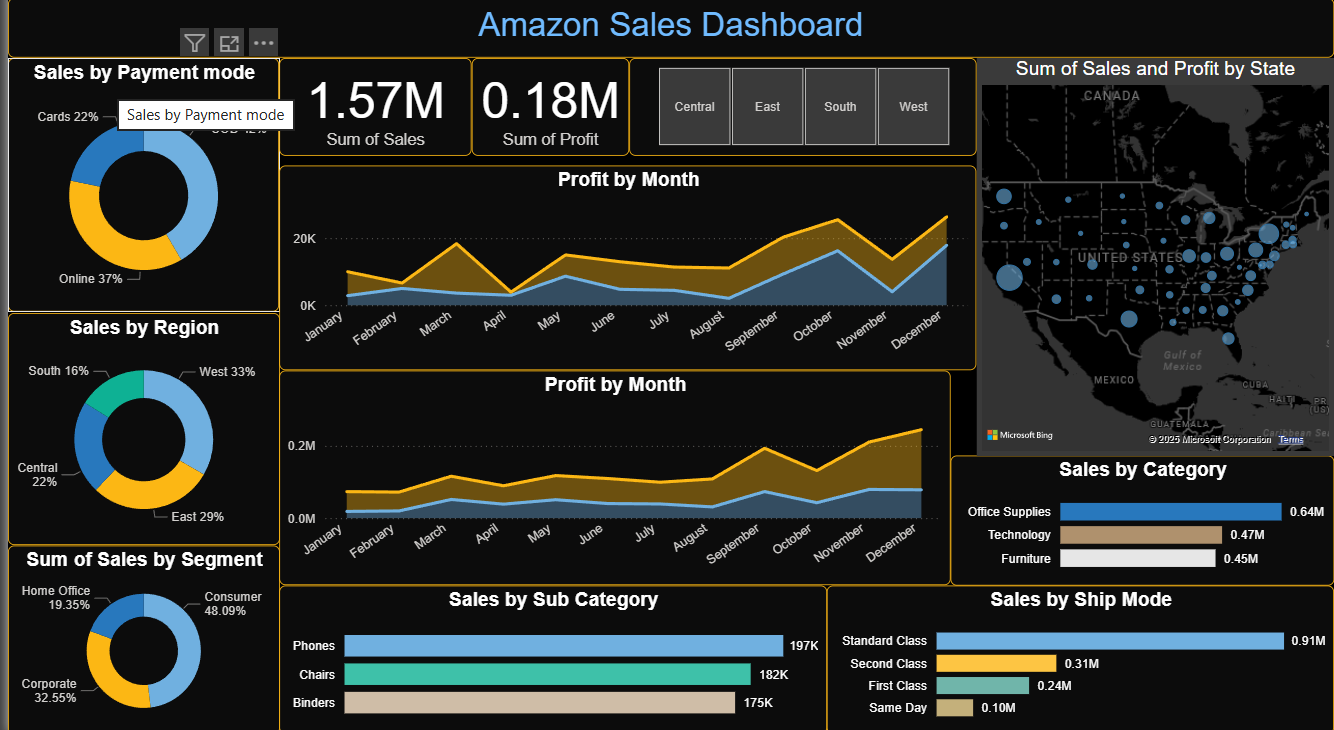

What the dashboard file says about the page in this screenshot:
{"tool":"powerbi","page":{"name":"Page 1","canvas":[1280,720],"ordinal":0},"visuals":[{"type":"donutChart","title":"Sales by Payment mode","fields":{"Category":["SuperStore_Sales_Dataset.Payment Mode"],"Y":["CountNonNull(SuperStore_Sales_Dataset.Order ID)"]},"box":[0,67.6,261.8,244.9],"z":0},{"type":"donutChart","title":"Sales by Region","fields":{"Category":["SuperStore_Sales_Dataset.Region"],"Y":["Sum(SuperStore_Sales_Dataset.Sales)"]},"box":[0,314.2,262.1,223.7],"z":1000},{"type":"donutChart","fields":{"Y":["Sum(SuperStore_Sales_Dataset.Sales)"],"Category":["SuperStore_Sales_Dataset.Segment"]},"box":[0,537.9,262.1,182.5],"z":2000},{"type":"clusteredBarChart","title":"Sales by Ship Mode","fields":{"Category":["SuperStore_Sales_Dataset.Ship Mode"],"Y":["Sum(SuperStore_Sales_Dataset.Sales)"]},"box":[790.2,576.7,489.8,143.6],"z":3000},{"type":"clusteredBarChart","title":"Sales by Category","fields":{"Category":["SuperStore_Sales_Dataset.Category","SuperStore_Sales_Dataset.Segment"],"Y":["Sum(SuperStore_Sales_Dataset.Sales)"]},"box":[909.7,451.2,370.4,125.5],"z":4000},{"type":"textbox","box":[0,9.7,1280,57.9],"z":5000},{"type":"stackedAreaChart","title":"Profit by Month","fields":{"Category":["SuperStore_Sales_Dataset.Order Date.Variation.Date Hierarchy.Month"],"Series":["SuperStore_Sales_Dataset.Order Date.Variation.Date Hierarchy.Year"],"Y":["Sum(SuperStore_Sales_Dataset.Sales)"]},"box":[261.8,369.2,647.9,207.5],"z":6000},{"type":"clusteredBarChart","title":"Sales by Sub Category","fields":{"Y":["Sum(SuperStore_Sales_Dataset.Sales)"],"Category":["SuperStore_Sales_Dataset.Sub-Category"]},"box":[261.8,576.7,528.4,143.6],"z":7000},{"type":"map","title":"Sum of Sales and Profit by State","fields":{"Category":["SuperStore_Sales_Dataset.State"],"Size":["Sum(SuperStore_Sales_Dataset.Sales)"]},"box":[935,67.6,345,383.6],"z":8000},{"type":"card","fields":{"Values":["Sum(SuperStore_Sales_Dataset.Sales)"]},"box":[261.8,67.6,185.8,94.1],"z":9000},{"type":"card","fields":{"Values":["Sum(SuperStore_Sales_Dataset.Profit)"]},"box":[447.6,67.6,152,94.1],"z":10000},{"type":"slicer","fields":{"Values":["SuperStore_Sales_Dataset.Region"]},"box":[599.6,67.6,335.4,94.1],"z":11000},{"type":"stackedAreaChart","title":"Profit by Month","fields":{"Category":["SuperStore_Sales_Dataset.Order Date.Variation.Date Hierarchy.Month"],"Y":["Sum(SuperStore_Sales_Dataset.Profit)"],"Series":["SuperStore_Sales_Dataset.Order Date.Variation.Date Hierarchy.Year"]},"box":[261.8,171.3,673.2,197.9],"z":12000}]}

Visuals, with their boxes in screenshot pixels (x1, y1, x2, y2), scaled from the page's 1280x720 canvas onto the 1334x730 screenshot:
"Sales by Payment mode" donutChart: [left=0, top=69, right=273, bottom=317]
"Sales by Region" donutChart: [left=0, top=319, right=273, bottom=545]
donutChart - Sum(SuperStore_Sales_Dataset.Sales) x SuperStore_Sales_Dataset.Segment: [left=0, top=545, right=273, bottom=729]
"Sales by Ship Mode" clusteredBarChart: [left=824, top=585, right=1333, bottom=729]
"Sales by Category" clusteredBarChart: [left=948, top=457, right=1333, bottom=585]
textbox: [left=0, top=10, right=1333, bottom=69]
"Profit by Month" stackedAreaChart: [left=273, top=374, right=948, bottom=585]
"Sales by Sub Category" clusteredBarChart: [left=273, top=585, right=824, bottom=729]
"Sum of Sales and Profit by State" map: [left=974, top=69, right=1333, bottom=457]
card - Sum(SuperStore_Sales_Dataset.Sales): [left=273, top=69, right=466, bottom=164]
card - Sum(SuperStore_Sales_Dataset.Profit): [left=466, top=69, right=625, bottom=164]
slicer - SuperStore_Sales_Dataset.Region: [left=625, top=69, right=974, bottom=164]
"Profit by Month" stackedAreaChart: [left=273, top=174, right=974, bottom=374]
